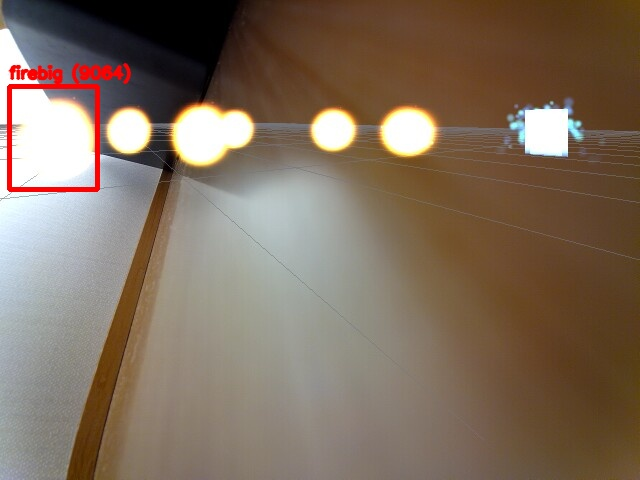firebig: (9, 86, 97, 189)
